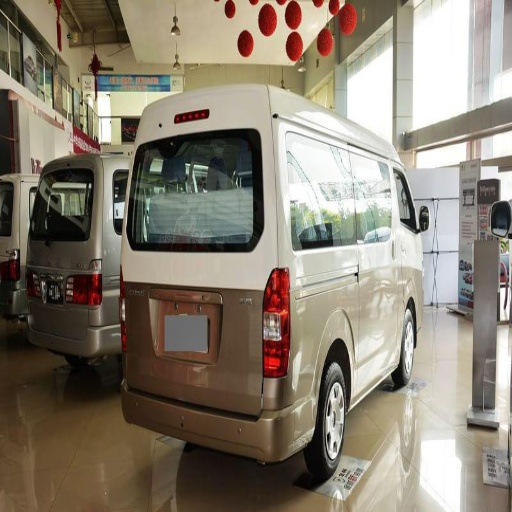back_bumper: (123, 359, 317, 461), (14, 289, 117, 358)
back_glass: (140, 134, 257, 241)
trunk: (27, 244, 272, 407), (297, 269, 358, 375), (377, 255, 423, 303)
